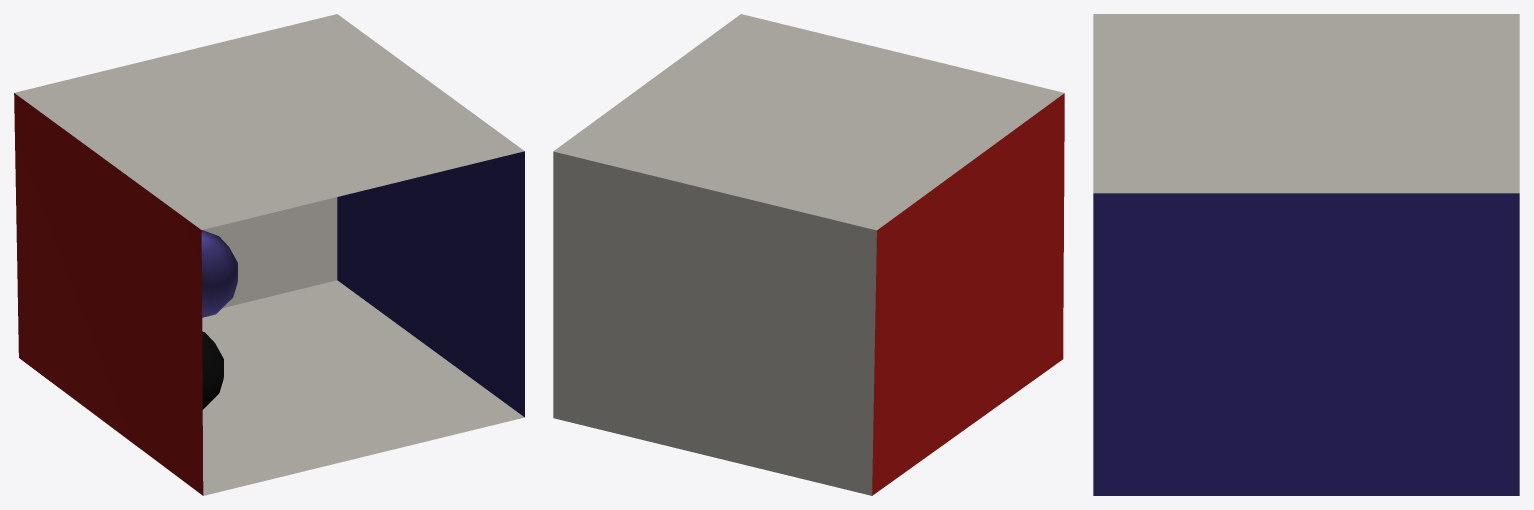
The model's file is CornellBox-Sphere-852.obj.
3 views of the same model, side by side, from view 1: azimuth 30°, elevation 25°; view 2: azimuth 150°, elevation 25°; view 3: azimuth 270°, elevation 25° (orthographic). The views are drawn at different scales.
Parts seen in each view (by area): view 1: ceiling, leftWall, floor, rightWall, backWall, leftSphere, rightSphere; view 2: backWall, ceiling, leftWall; view 3: rightWall, ceiling.
Part boxes in pixels (x1,y1,x2,y2): ceiling: (14,14,524,229); leftWall: (14,93,203,495); floor: (202,280,524,495); rightWall: (337,151,524,417); backWall: (203,197,337,308); leftSphere: (201,230,237,317); rightSphere: (202,331,223,409); backWall: (553,151,876,495); ceiling: (553,14,1064,230); leftWall: (872,93,1064,495); rightWall: (1093,193,1519,495); ceiling: (1093,14,1519,193).
Size of the model in its own units: 2.02 by 1.59 by 2.03.
